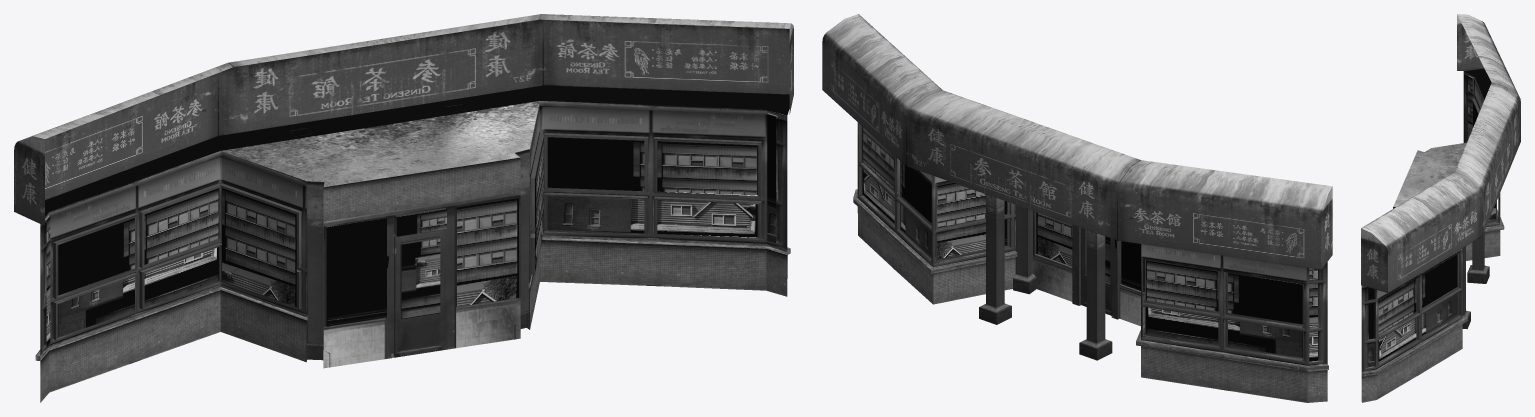
The model's file is ginseng_tea_room.fbx.
3 renders of one model, left to right at view 1: azimuth 30°, elevation 25°; view 2: azimuth 150°, elevation 25°; view 3: azimuth 270°, elevation 25°, orthographic. The views are drawn at different scales.
Parts seen in each view (by area): view 1: ginseng_tea_room, tea_room_windows; view 2: ginseng_tea_room, tea_room_windows; view 3: ginseng_tea_room, tea_room_windows.
Part boxes in pixels (x1,y1,x2,y2): ginseng_tea_room: (14,14,793,402); tea_room_windows: (46,114,776,346); ginseng_tea_room: (822,14,1332,402); tea_room_windows: (862,127,1317,361); ginseng_tea_room: (1361,14,1520,402); tea_room_windows: (1368,76,1495,366).
Size of the model in its own units: 1440 by 523 by 433.
